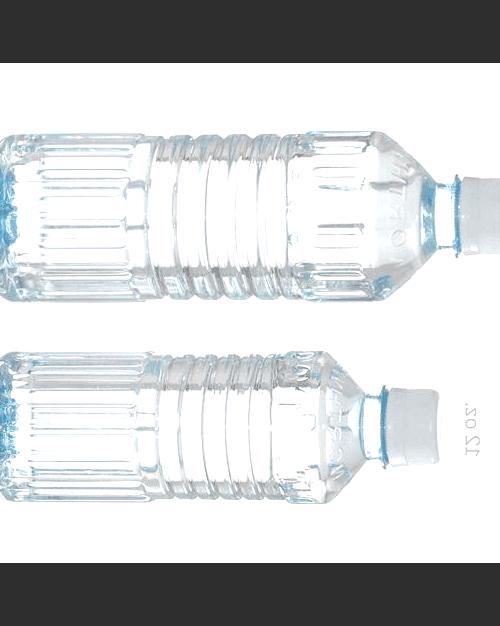bottle: (0, 117, 500, 307), (0, 340, 456, 514)
